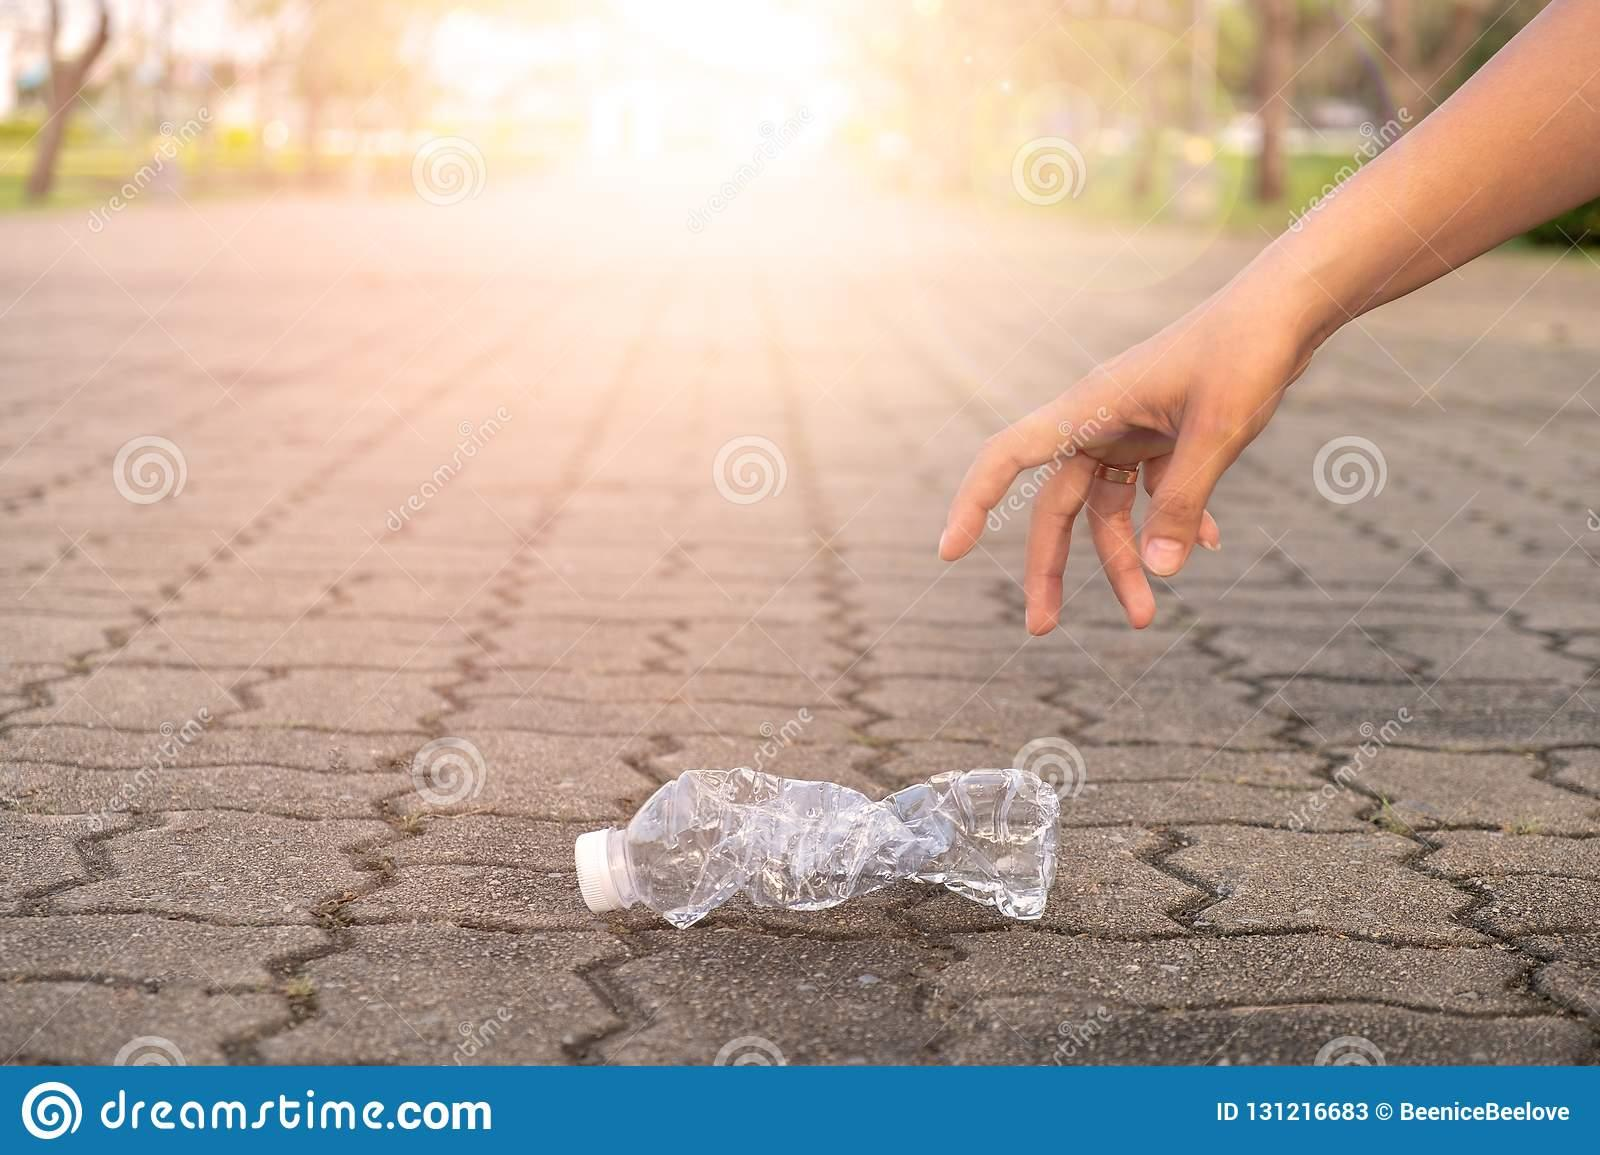bottle: (558, 723, 1083, 960)
